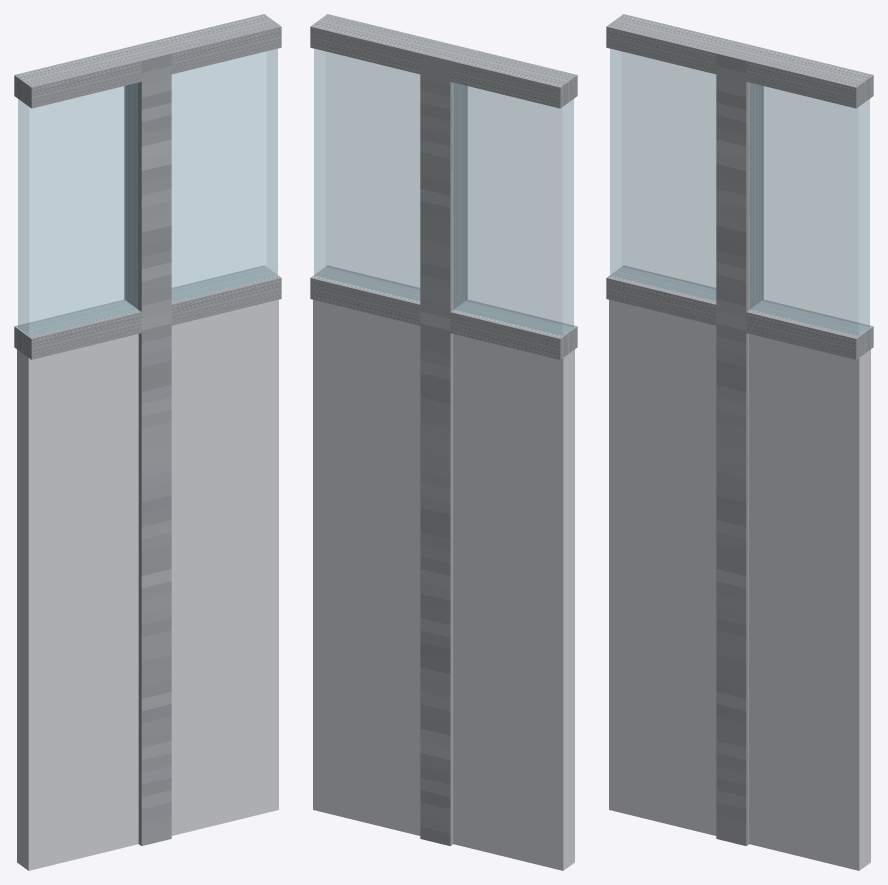
File: noise-barrier.glb
3 views of the same model, side by side, from view 1: azimuth 30°, elevation 25°; view 2: azimuth 150°, elevation 25°; view 3: azimuth 330°, elevation 25° (orthographic).
Visible parts, largest first — view 1: bridge-barrier-lower-panel (×2), bridge-barrier-glass (×2), bridge-barrier-post, bridge-barrier-top-rail (×2), bridge-barrier-middle-rail (×2); view 2: bridge-barrier-lower-panel (×2), bridge-barrier-glass (×2), bridge-barrier-post, bridge-barrier-top-rail (×2), bridge-barrier-middle-rail (×2); view 3: bridge-barrier-lower-panel (×2), bridge-barrier-glass (×2), bridge-barrier-post, bridge-barrier-top-rail (×2), bridge-barrier-middle-rail (×2).
Part boxes in pixels (x1,y1,x2,y2): bridge-barrier-lower-panel (×2): (17, 299, 278, 870); bridge-barrier-glass (×2): (18, 48, 277, 335); bridge-barrier-post: (124, 41, 171, 845); bridge-barrier-top-rail (×2): (14, 14, 281, 108); bridge-barrier-middle-rail (×2): (14, 265, 281, 359); bridge-barrier-lower-panel (×2): (313, 299, 574, 870); bridge-barrier-glass (×2): (314, 48, 573, 335); bridge-barrier-post: (420, 41, 467, 845); bridge-barrier-top-rail (×2): (310, 14, 577, 108); bridge-barrier-middle-rail (×2): (310, 265, 577, 359); bridge-barrier-lower-panel (×2): (609, 299, 870, 870); bridge-barrier-glass (×2): (610, 48, 869, 335); bridge-barrier-post: (716, 41, 763, 845); bridge-barrier-top-rail (×2): (606, 14, 873, 108); bridge-barrier-middle-rail (×2): (606, 265, 873, 359).
Size of the model in its own units: 1 by 3 by 0.12.
3 materials, 1 textured.
